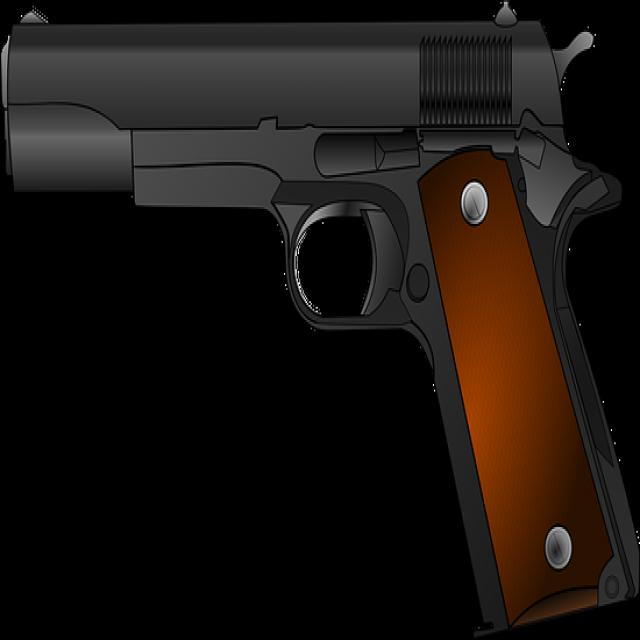HandGun: (0, 6, 640, 640)
